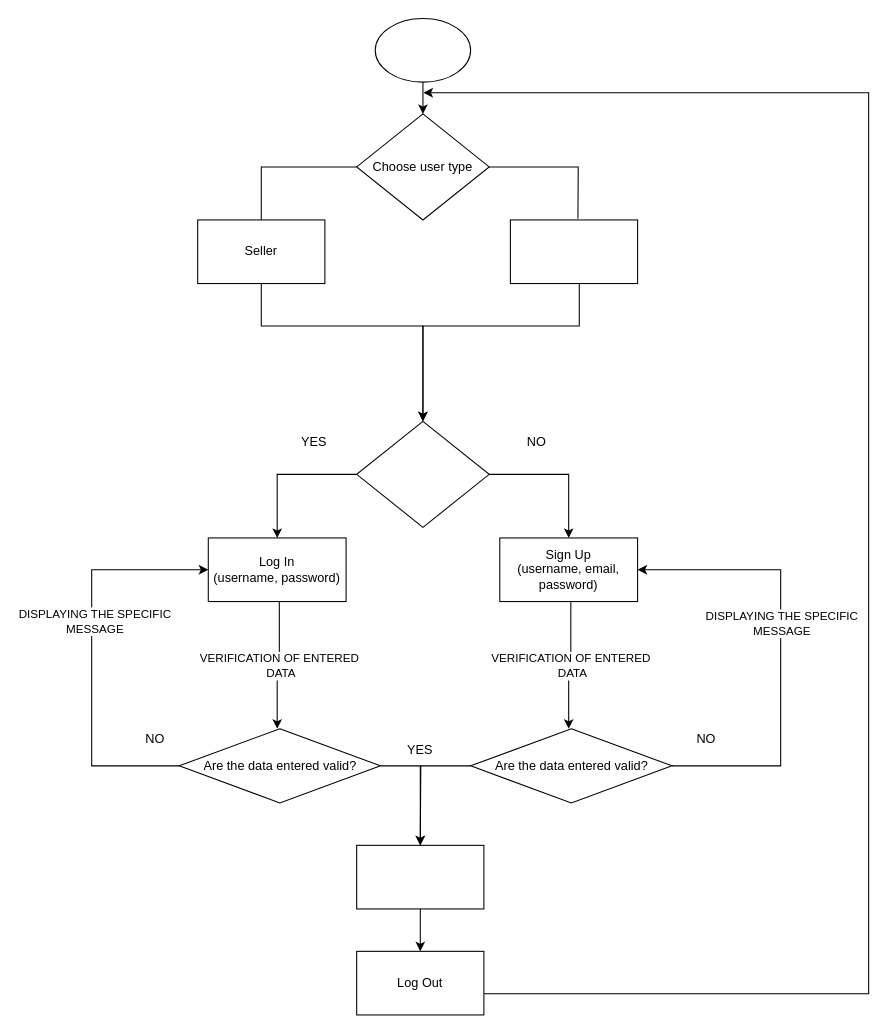
This 896x1034 diagram has some shape labels left out. The shapes that lost their labels are listed below. From the top down, each one's centre as x and y in pixels, then its label:
the point at 422,49: START
the point at 573,251: Customer
the point at 422,473: Do you have any account?
the point at 420,876: Main Menu
